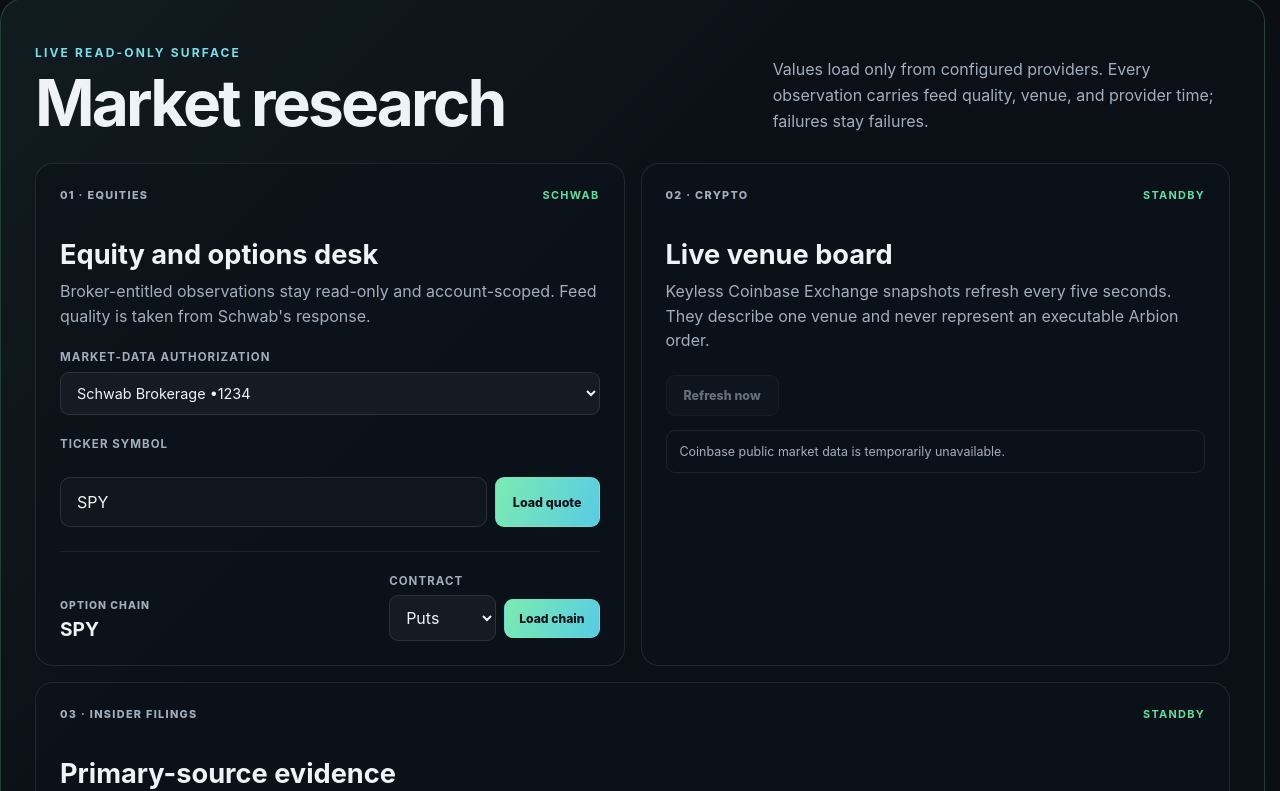
Test: MarketCommandSurface › keeps Schwab observations scoped to the selected connected account
Click the button "Load quote".
click(547, 502)  # box [495, 477, 600, 527]
(page scrolled)
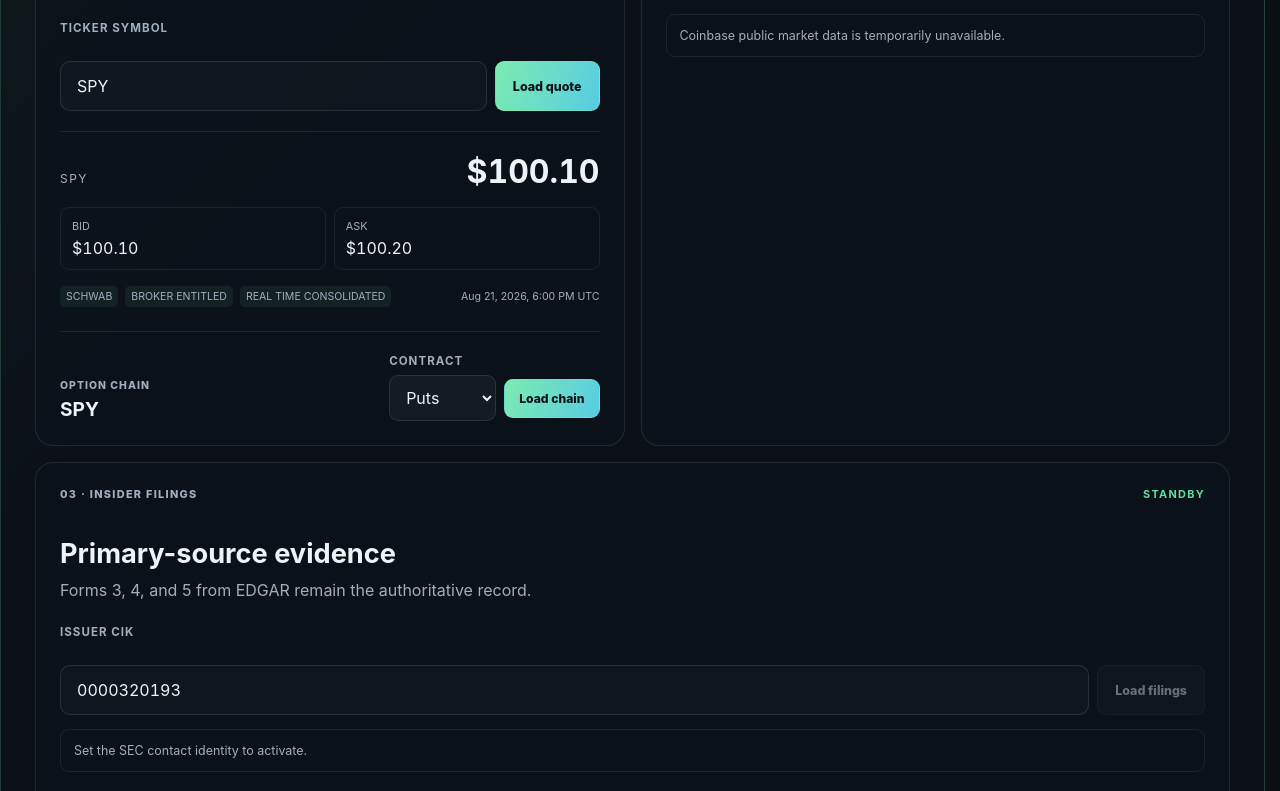
Expected: the button "Load chain" is enabled, [504, 379, 600, 418]
Result: the text "real time consolidated" is shown at [240, 286, 391, 307]
